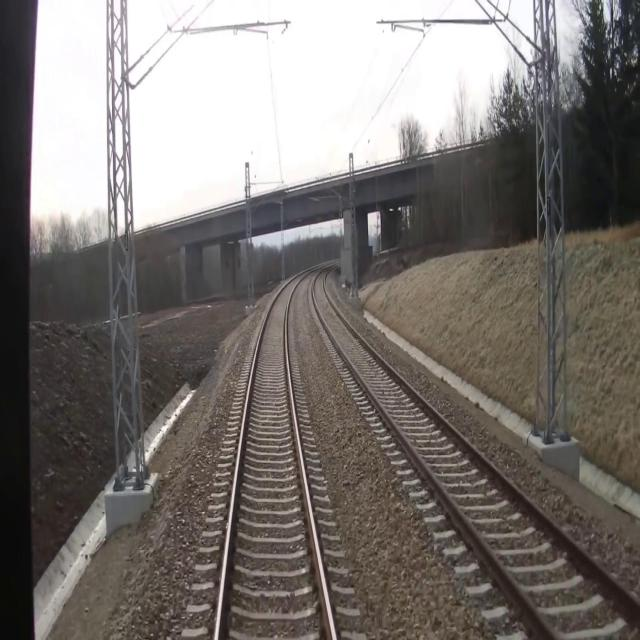rail-track: (314, 265, 640, 639), (219, 270, 332, 639)
